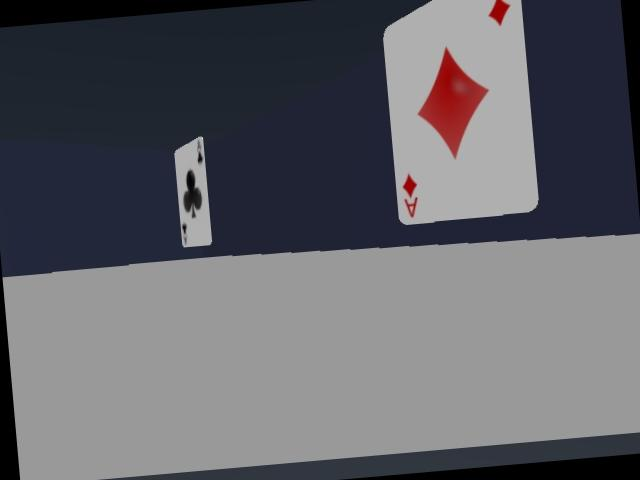club: (174, 137, 211, 246)
diamond: (378, 0, 540, 225)
